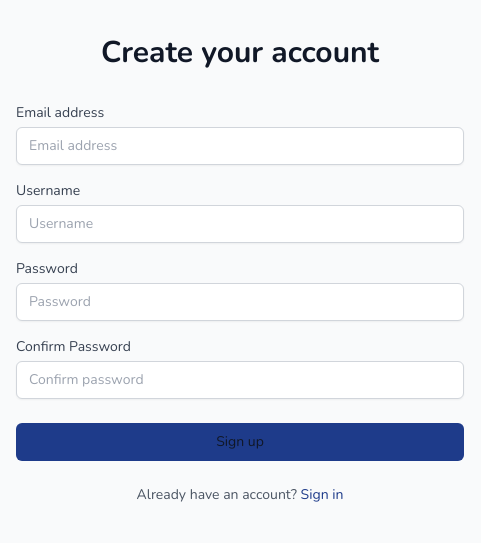
Test: SignupForm › should display validation error for short password
In the field with placeholder "Email address": {"x": 240, "y": 146} [16,127,464,165], type "test@example.com"
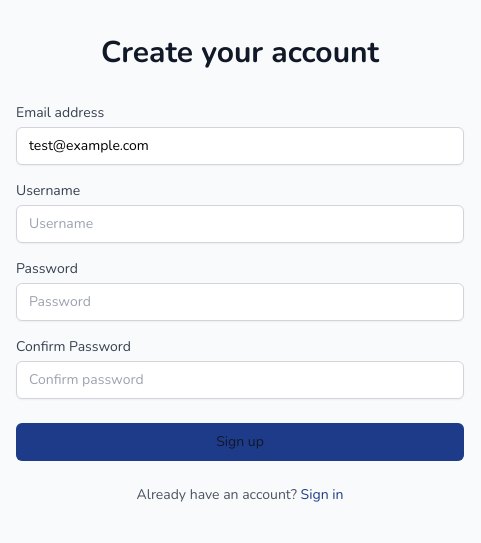
In the field with placeholder "Username": {"x": 240, "y": 224} [16,205,464,243], type "testuser"
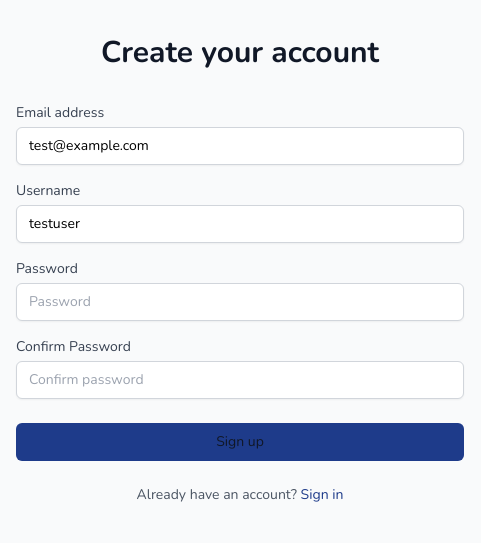
In the password field with placeholder "Password": {"x": 240, "y": 302} [16,283,464,321], type "123"
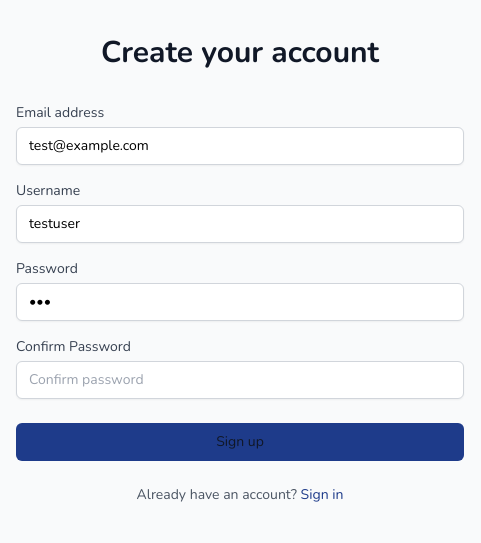
Click the button "Sign up": {"x": 240, "y": 442} [16,423,464,461]
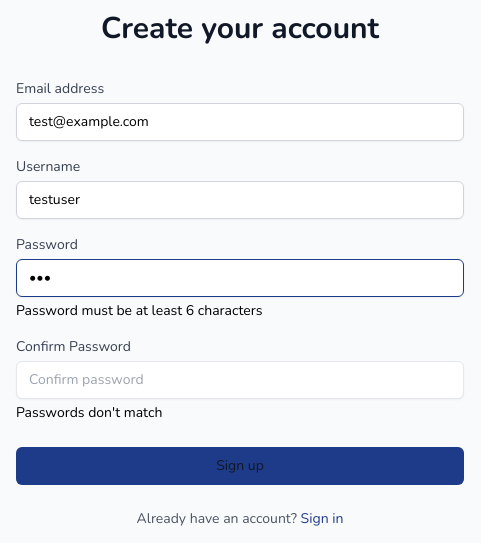
Expected: the text "Password must be at least 6 characters" is shown, [16,301,262,320]
